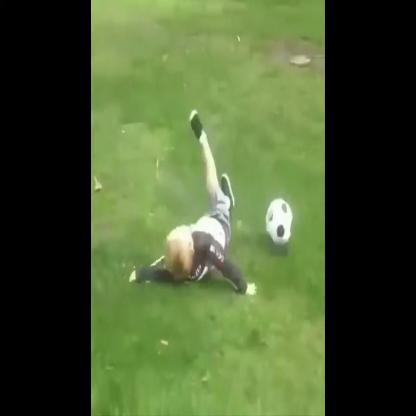Fall_Down: (126, 110, 260, 300)
